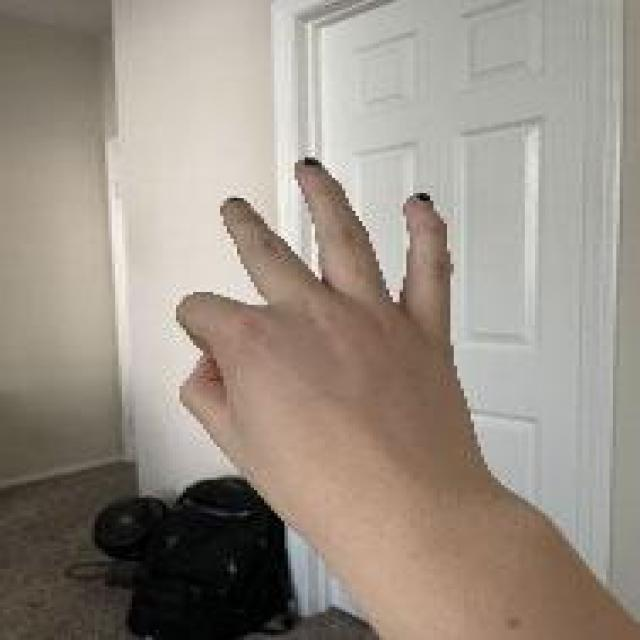F: (161, 150, 493, 508)
